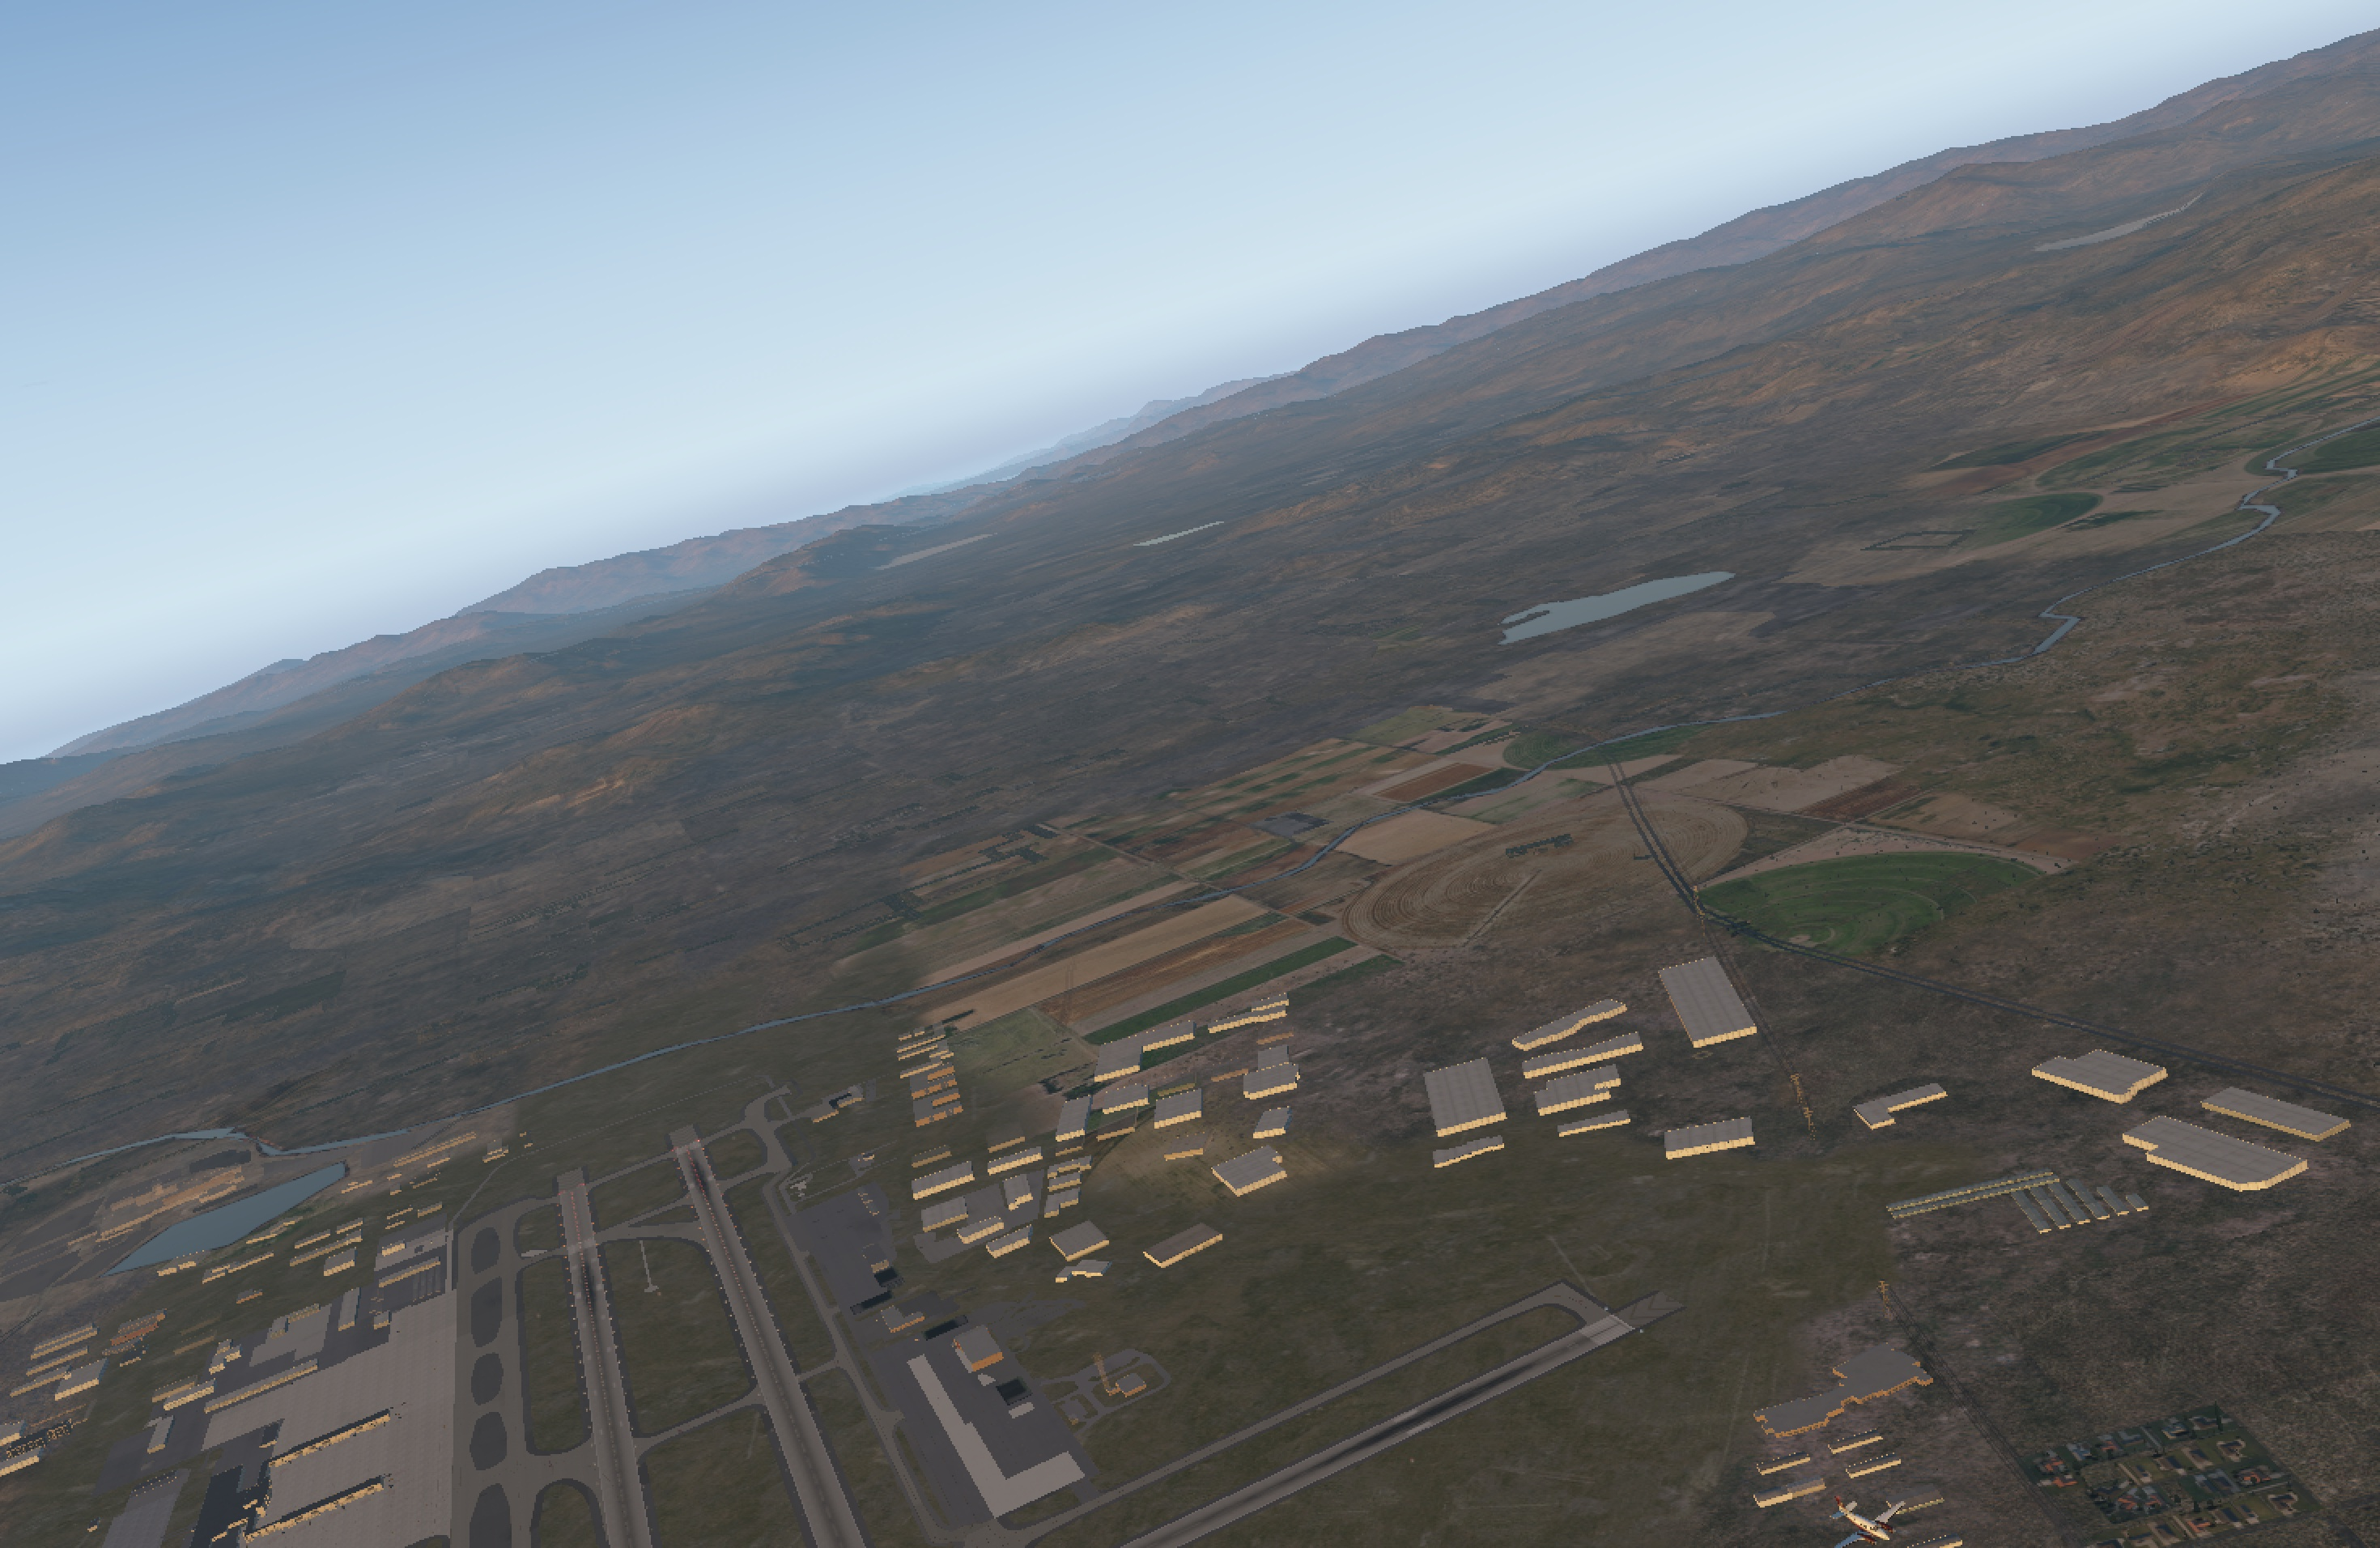aircraft: (1828, 1515, 1917, 1548)
